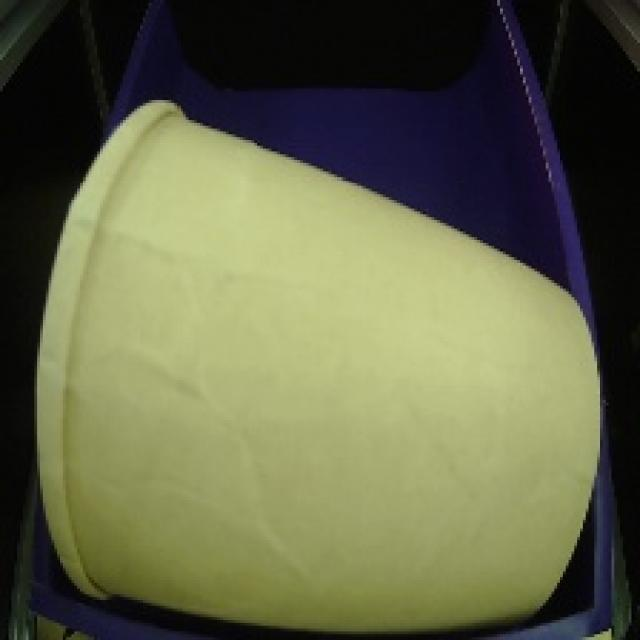cups: (25, 85, 608, 640)
